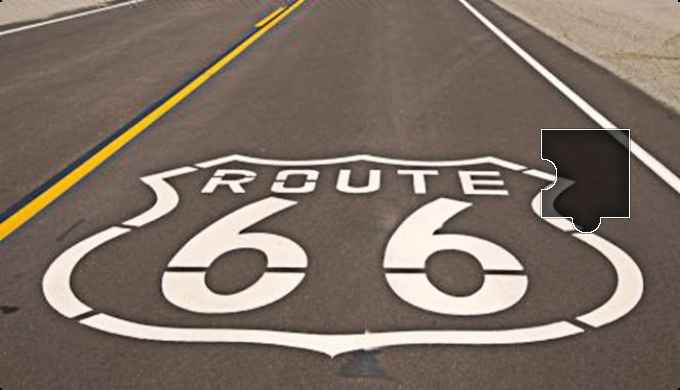gap: (540, 130, 628, 235)
